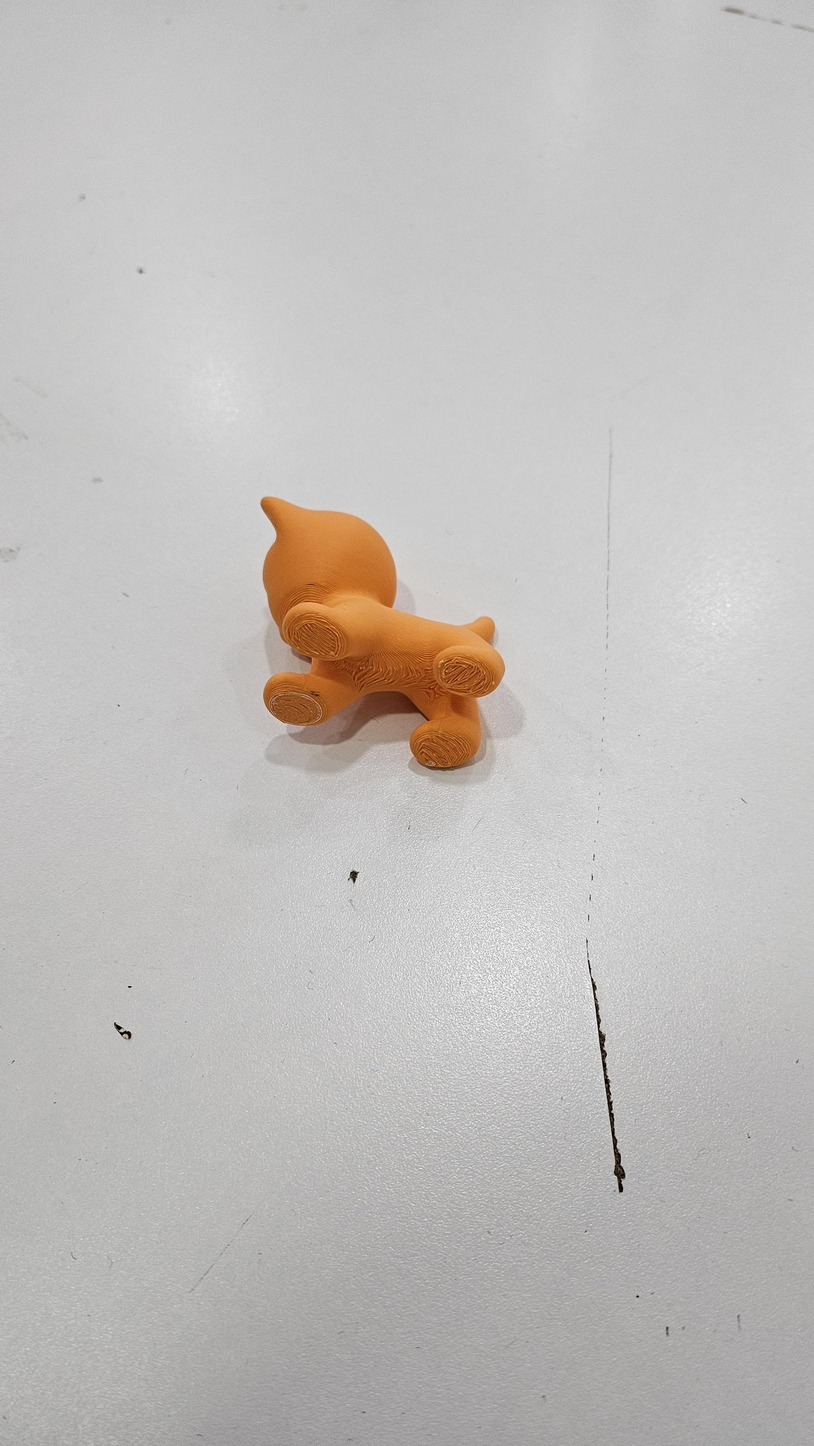cat: (248, 490, 509, 773)
